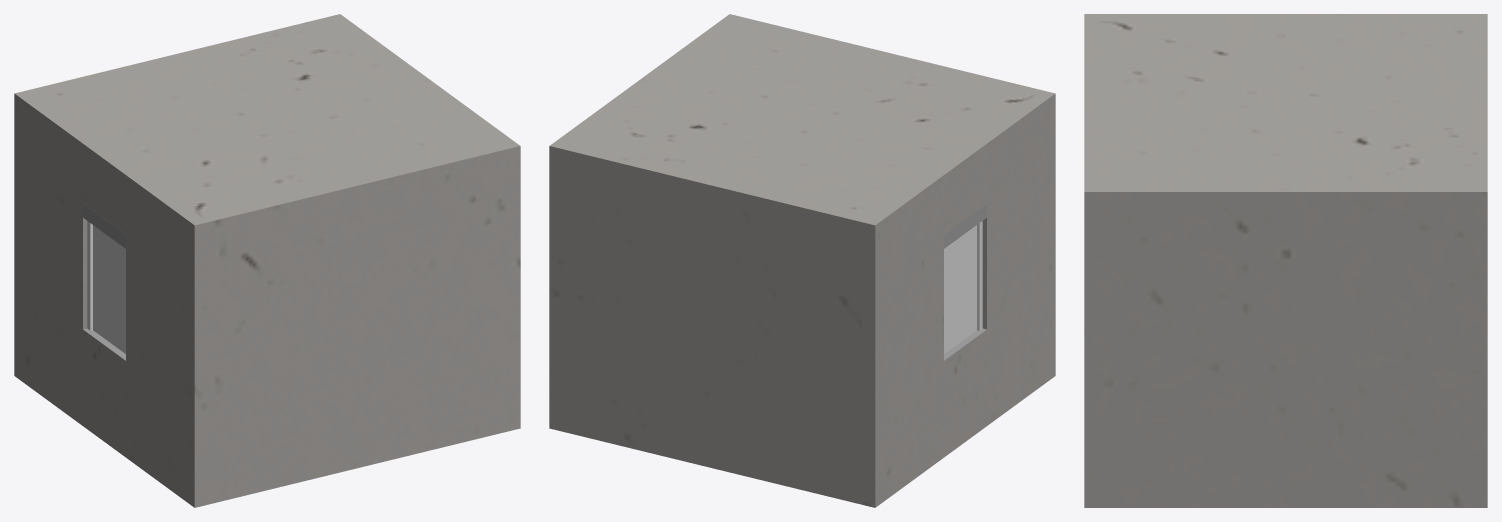
File: Room.fbx
3 views of the same model, side by side, from view 1: azimuth 30°, elevation 25°; view 2: azimuth 150°, elevation 25°; view 3: azimuth 270°, elevation 25° (orthographic). The views are drawn at different scales.
Parts seen in each view (by area): view 1: Room; view 2: Room; view 3: Room.
Part boxes in pixels (<box>): Room: <box>14,14,520,507</box>; Room: <box>549,14,1055,507</box>; Room: <box>1084,14,1487,507</box>.
Bounding box in the file's own units: 2504 × 2075 × 2400.
